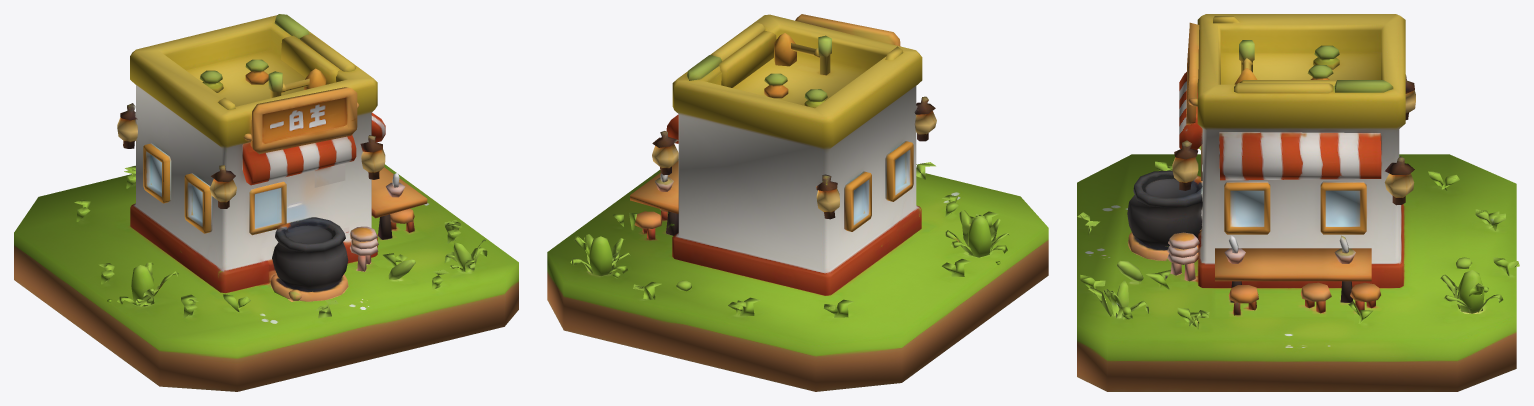
File: cantina_2.glb
The picture shows the model from 3 angles, left to right: view 1: azimuth 30°, elevation 25°; view 2: azimuth 150°, elevation 25°; view 3: azimuth 270°, elevation 25°; orthographic projection. The views are drawn at different scales.
Parts seen in each view (by area): view 1: tripo_node_9debc0e9-1bef-43f1-8554-171792dbac58; view 2: tripo_node_9debc0e9-1bef-43f1-8554-171792dbac58; view 3: tripo_node_9debc0e9-1bef-43f1-8554-171792dbac58.
Part boxes in pixels (x1,y1,x2,y2): tripo_node_9debc0e9-1bef-43f1-8554-171792dbac58: (14,14,518,391); tripo_node_9debc0e9-1bef-43f1-8554-171792dbac58: (547,14,1048,391); tripo_node_9debc0e9-1bef-43f1-8554-171792dbac58: (1077,14,1519,391).
Size of the model in its own units: 0.998 by 0.6309 by 0.998.
1 material, 1 textured.
